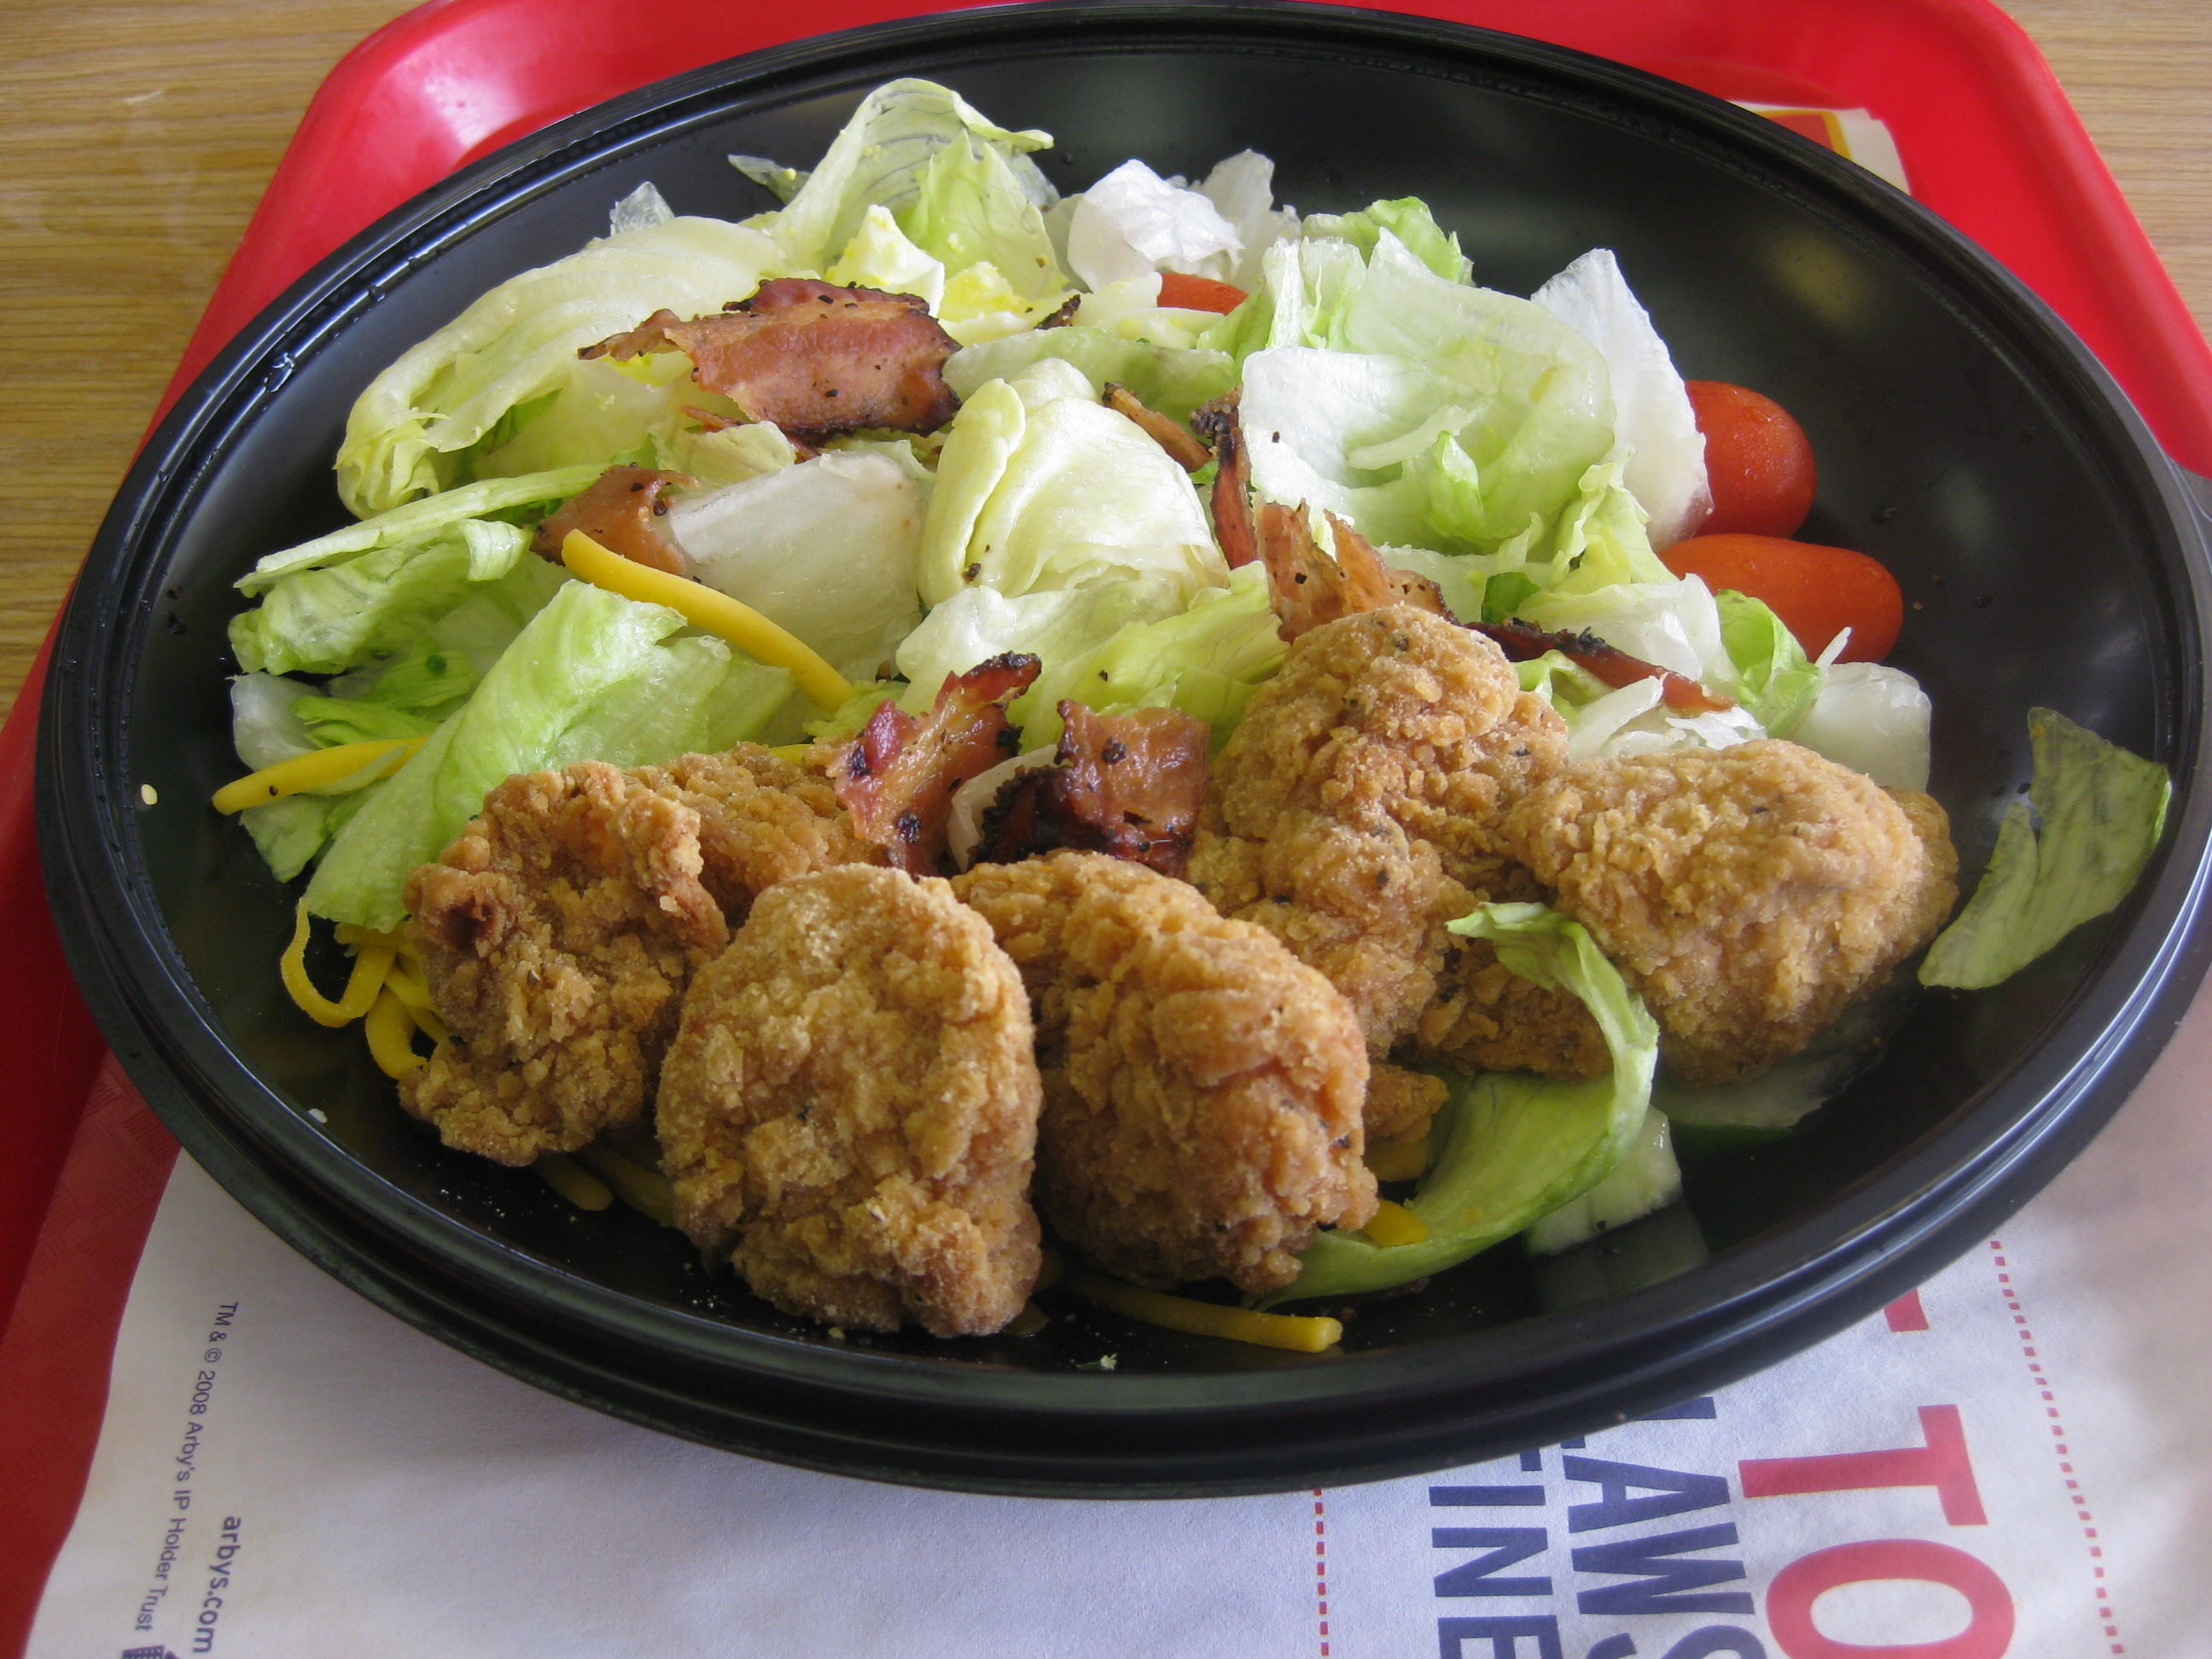salad: (140, 27, 2152, 1429)
